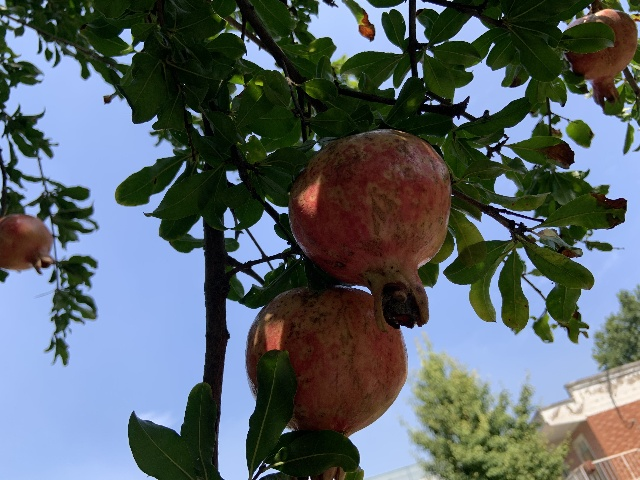ripe: (288, 128, 450, 327), (245, 286, 407, 480), (566, 9, 637, 108), (0, 214, 54, 275)
